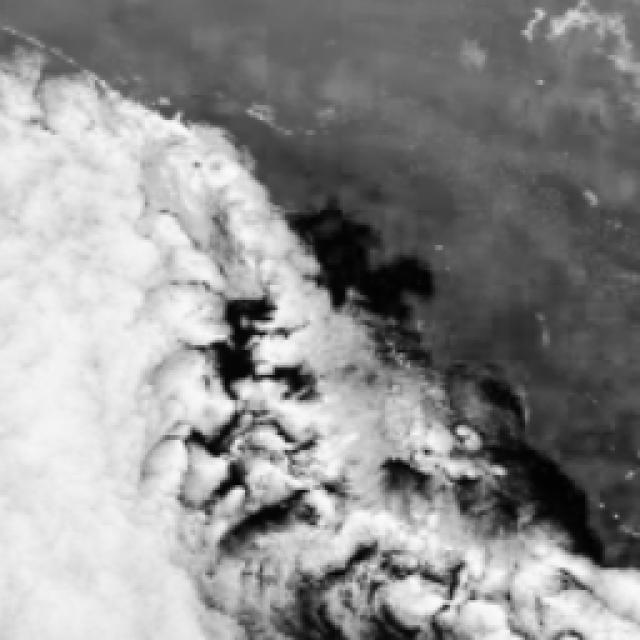CB: (0, 126, 150, 380), (0, 382, 148, 638)
